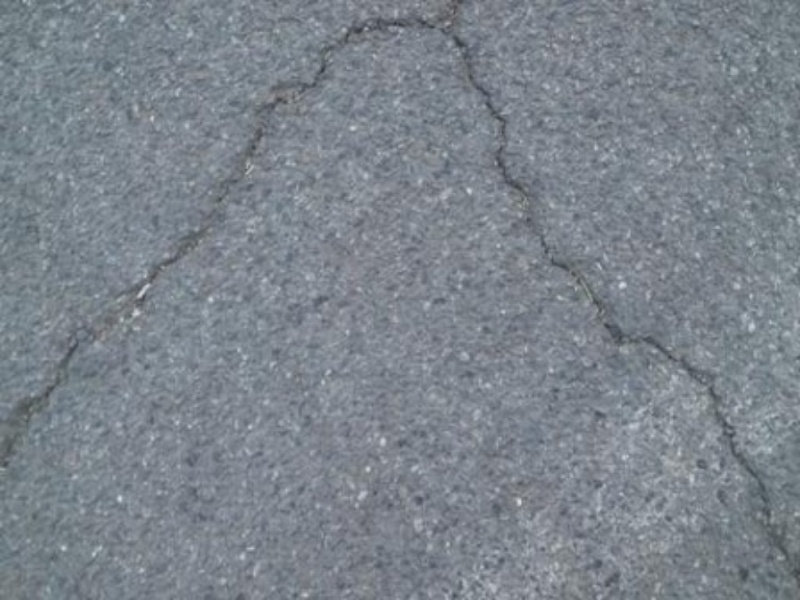crack: (11, 11, 444, 474), (452, 23, 790, 580)
